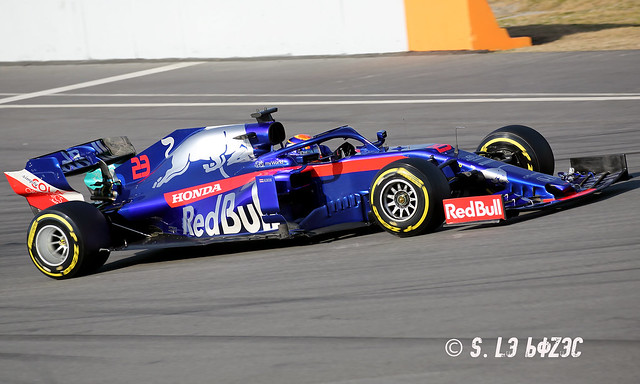F1 Car: (1, 98, 631, 284)
